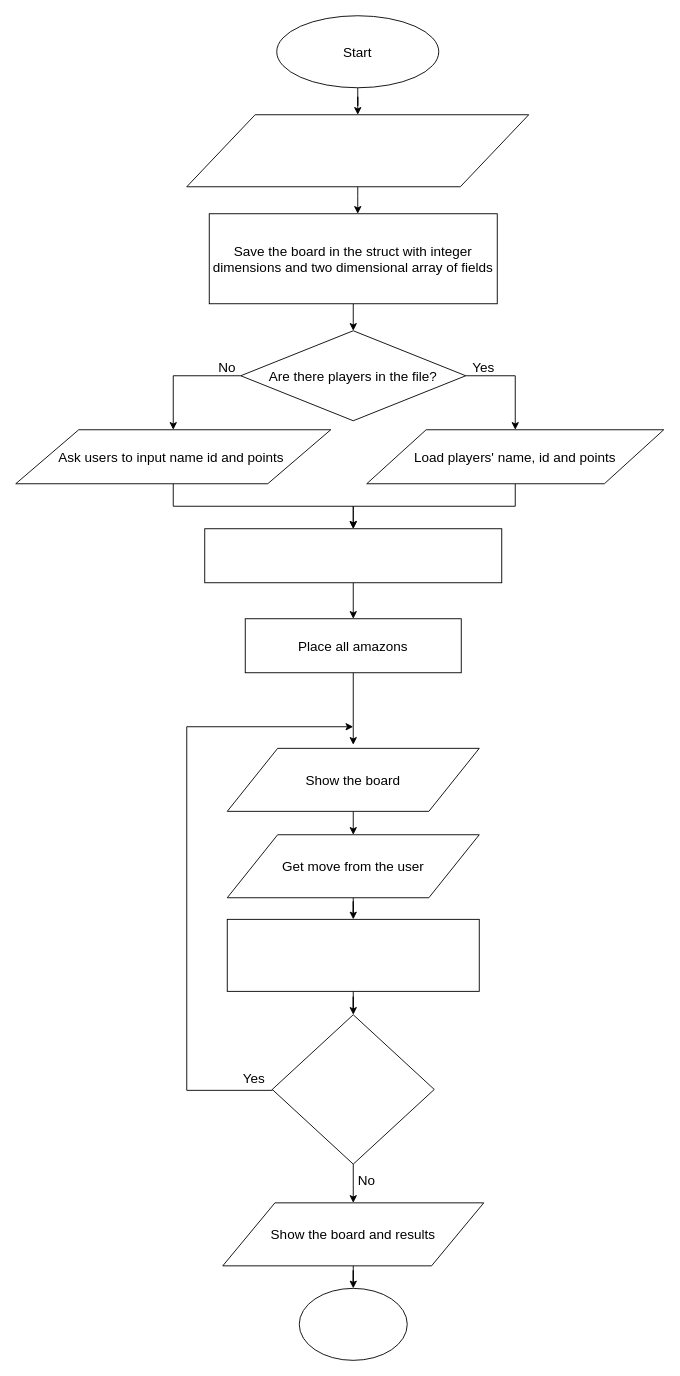
Image size: 680x1376. Some labels were removed from this diagram. The box of each missing label's shape, as (x1, y1, x2, y2) in pixels:
End: (298, 1287, 407, 1360)
Is the move possible?: (271, 1014, 434, 1164)
Load size of the board and the board: (186, 114, 529, 187)
Save move, update the board, update score count and switch to current user: (226, 918, 479, 991)
Save players in array of structs of type player: (204, 528, 502, 583)
